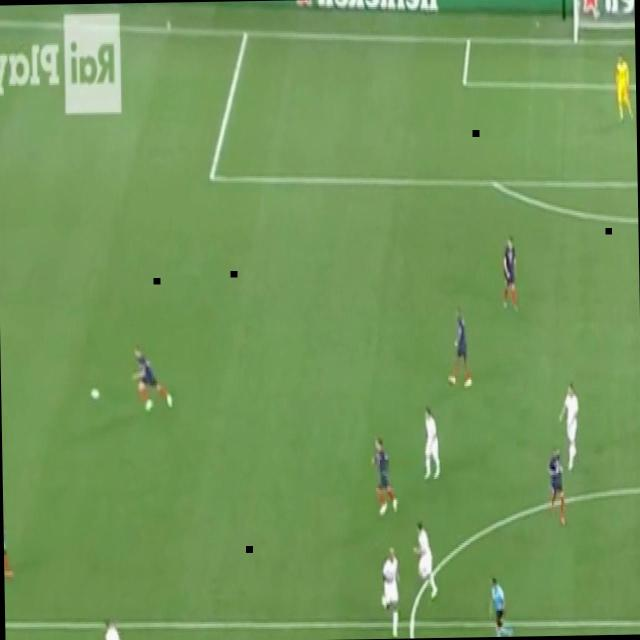ball: (90, 384, 102, 403)
player-white: (128, 343, 174, 419), (368, 432, 399, 516), (380, 542, 406, 639), (556, 378, 582, 468), (412, 518, 439, 602), (489, 572, 519, 637), (420, 401, 442, 488), (444, 311, 466, 395), (497, 233, 521, 310), (612, 52, 636, 126), (547, 446, 568, 524), (103, 614, 141, 640), (3, 499, 15, 577)
